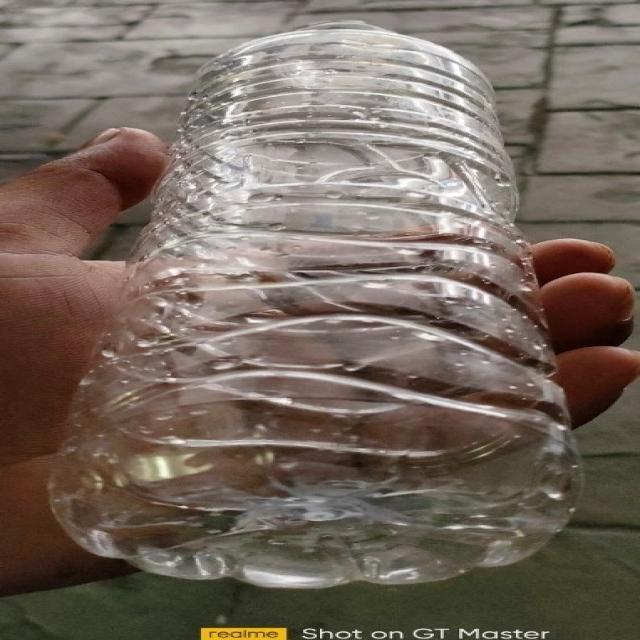plastic_bottle: (57, 18, 584, 589)
